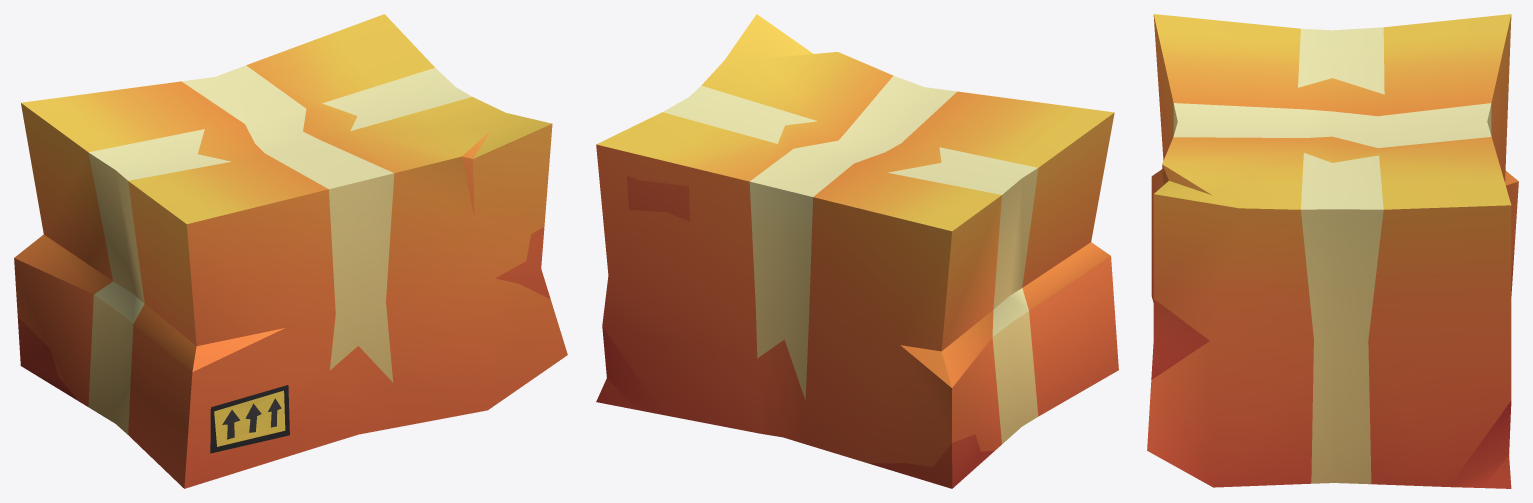
Rendered from cardboard_c.fbx.
3 renders of one model, left to right at view 1: azimuth 30°, elevation 25°; view 2: azimuth 150°, elevation 25°; view 3: azimuth 270°, elevation 25°, orthographic. The views are drawn at different scales.
Parts seen in each view (by area): view 1: cardboard2; view 2: cardboard2; view 3: cardboard2.
Boxes of the visible parts, x1=… form: cardboard2: x1=14, y1=14, x2=567, y2=488; cardboard2: x1=596, y1=14, x2=1118, y2=488; cardboard2: x1=1147, y1=14, x2=1518, y2=488.
Bounding box in the file's own units: 68.16 × 46.96 × 53.39.
